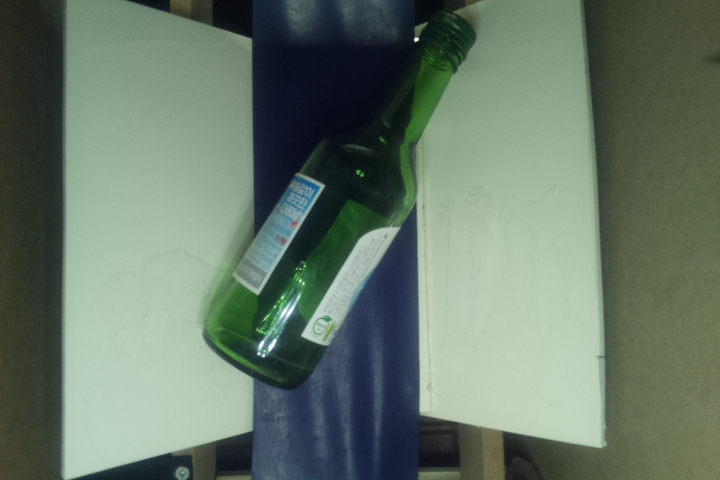soju: (201, 7, 477, 396)
